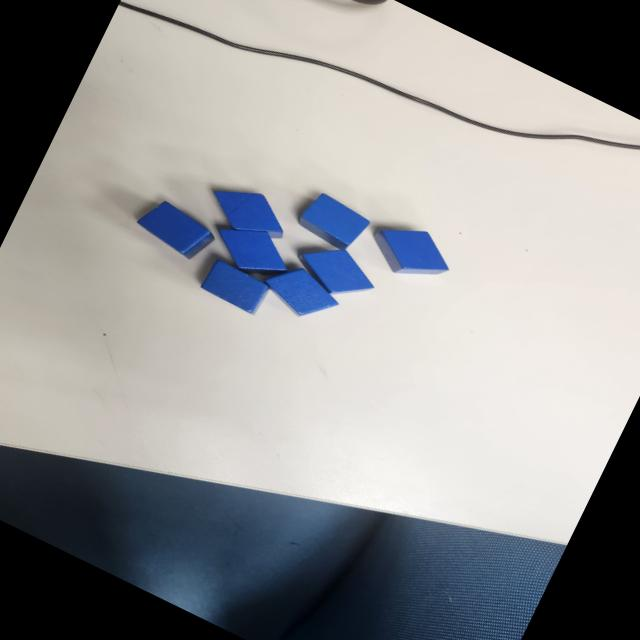blue: (361, 209, 461, 295), (288, 232, 384, 310), (201, 172, 296, 250), (205, 211, 298, 287), (255, 254, 346, 331), (130, 192, 220, 266), (294, 188, 372, 257), (198, 256, 272, 316)
